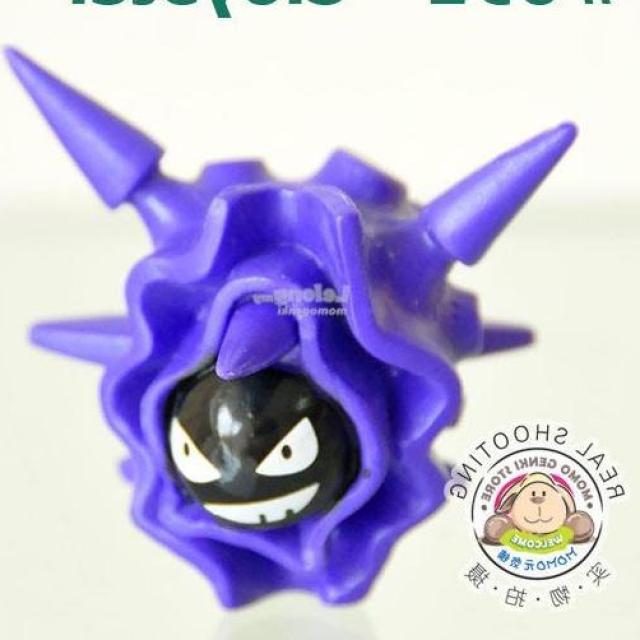Cloyster: (85, 162, 495, 608)
